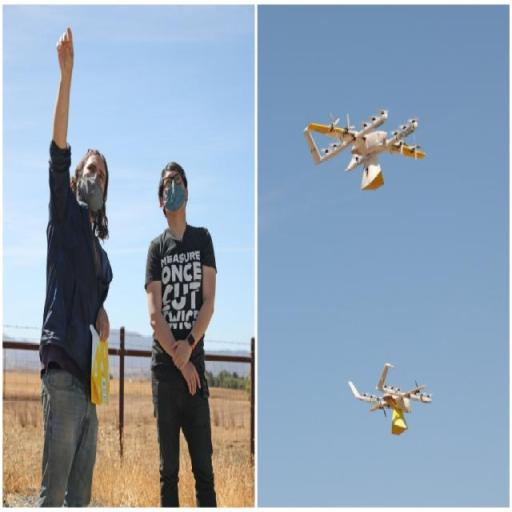uav: (300, 97, 443, 207)
